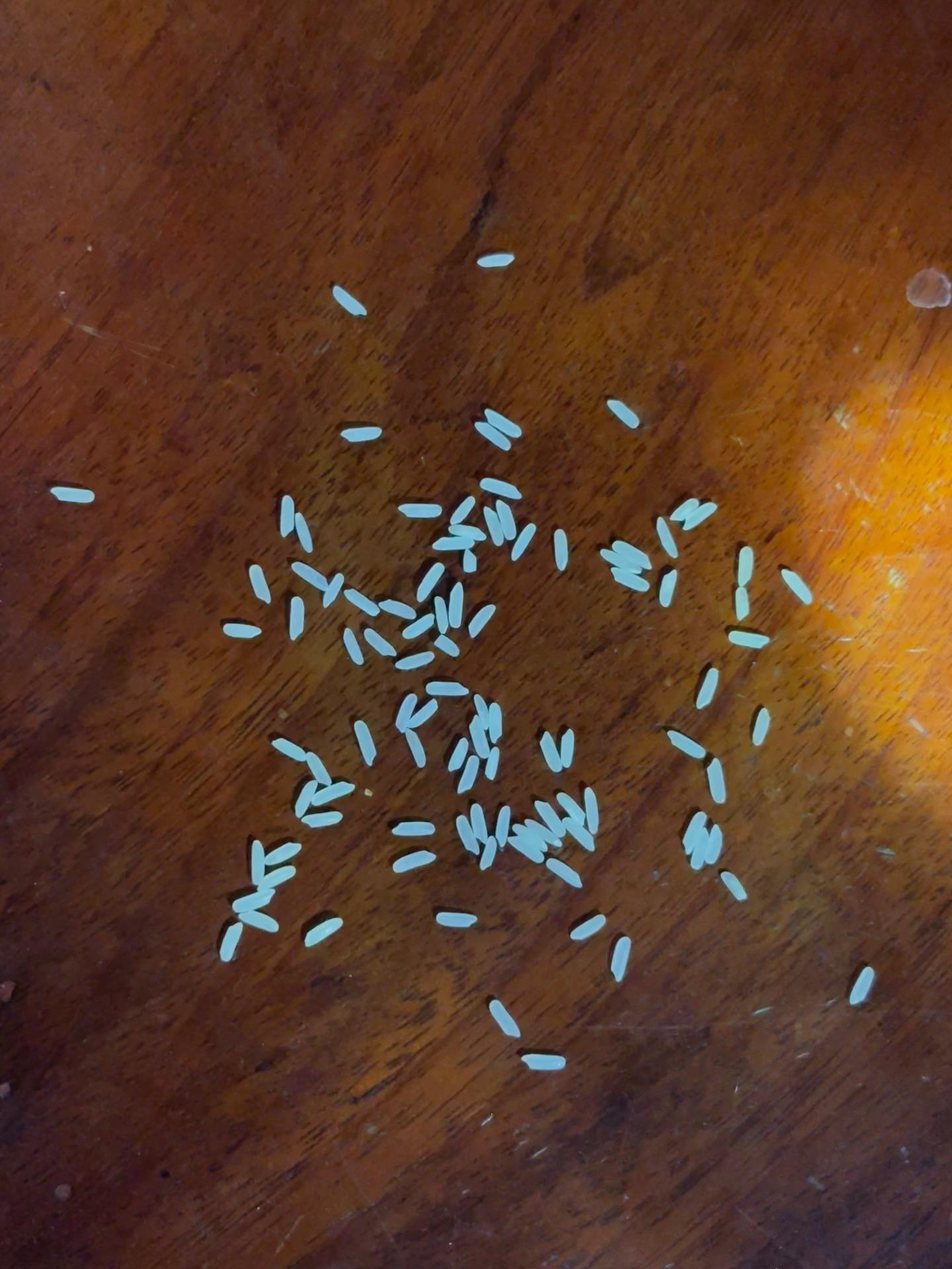Rice-th-y-nh: (489, 1000, 521, 1038), (415, 562, 445, 602), (303, 918, 343, 948), (613, 540, 652, 570), (563, 817, 595, 852), (781, 569, 813, 604), (535, 801, 565, 838), (546, 858, 583, 888), (485, 408, 522, 438), (668, 731, 707, 759), (475, 422, 512, 451), (292, 562, 329, 591), (354, 720, 377, 766), (508, 835, 545, 863), (468, 714, 491, 758), (312, 782, 354, 806), (455, 815, 480, 855), (333, 286, 366, 316), (556, 792, 586, 825), (232, 890, 275, 913), (393, 850, 436, 873), (467, 604, 496, 638), (683, 502, 717, 531), (600, 549, 641, 573), (219, 922, 244, 961), (525, 818, 561, 845), (655, 518, 679, 558), (696, 669, 720, 709), (607, 399, 640, 428), (849, 967, 874, 1005), (511, 523, 536, 561), (239, 910, 280, 933), (610, 568, 649, 592), (257, 866, 296, 890), (683, 812, 706, 852), (539, 732, 562, 772), (345, 589, 379, 616), (294, 780, 318, 818), (407, 700, 438, 729), (364, 629, 396, 657), (306, 752, 332, 786), (571, 915, 606, 940), (480, 478, 521, 499), (690, 829, 711, 870), (405, 728, 427, 767), (395, 694, 417, 733), (457, 756, 480, 793), (249, 565, 272, 602), (264, 842, 301, 865), (277, 495, 297, 537), (583, 788, 601, 834), (483, 507, 504, 546), (496, 501, 517, 540), (469, 804, 490, 843), (557, 729, 578, 768), (611, 938, 630, 981), (704, 824, 724, 864), (402, 615, 435, 639), (708, 759, 726, 803), (721, 871, 747, 901), (249, 840, 266, 885), (424, 680, 469, 697), (343, 629, 364, 665), (450, 496, 475, 526), (272, 739, 306, 761), (51, 486, 95, 503), (447, 738, 469, 772), (379, 599, 416, 619), (728, 631, 769, 649), (522, 1054, 565, 1071), (322, 574, 344, 607), (752, 708, 771, 746), (295, 513, 313, 553), (736, 547, 754, 587), (448, 583, 464, 628), (487, 703, 505, 743), (449, 523, 486, 542), (521, 826, 548, 852), (495, 806, 512, 847), (670, 498, 699, 522), (289, 596, 305, 639), (392, 821, 435, 837), (396, 652, 434, 670), (659, 570, 677, 607), (479, 836, 498, 871), (553, 529, 569, 570), (302, 812, 342, 828), (433, 536, 473, 552), (341, 427, 382, 442), (399, 504, 441, 518), (474, 695, 491, 729), (434, 634, 459, 657), (734, 587, 751, 620), (437, 913, 476, 927), (223, 624, 261, 638), (485, 747, 501, 780), (435, 596, 448, 633), (478, 254, 514, 267), (462, 550, 477, 573)
